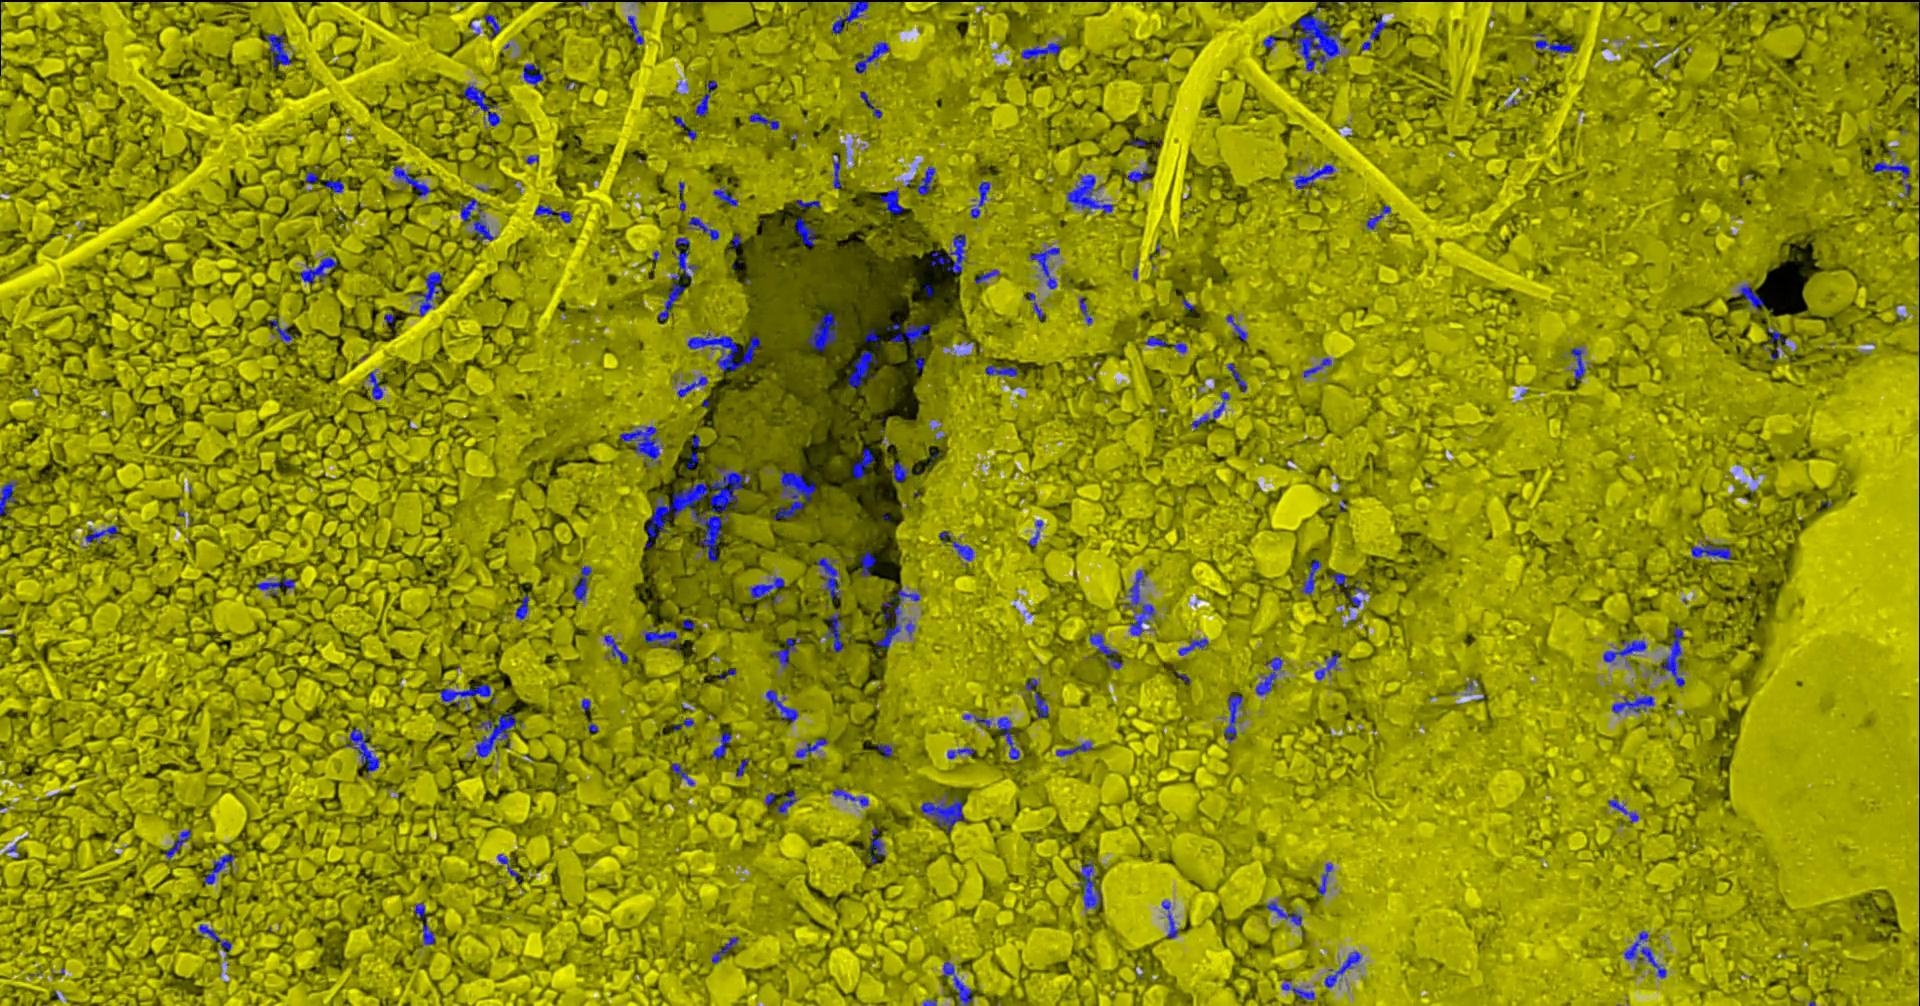ant: (877, 588, 921, 652), (775, 470, 817, 520), (1625, 930, 1669, 977), (477, 713, 523, 756), (1126, 569, 1156, 636), (1068, 173, 1115, 213), (621, 426, 663, 467), (922, 796, 969, 832), (460, 197, 497, 240), (345, 727, 381, 771), (463, 84, 502, 124), (1661, 626, 1686, 686), (943, 960, 975, 1005), (932, 232, 968, 272), (1192, 391, 1230, 427), (1031, 245, 1062, 288), (1326, 951, 1363, 987), (808, 311, 841, 351), (417, 271, 444, 316), (940, 530, 975, 565), (833, 0, 871, 33), (659, 274, 686, 320), (1090, 633, 1123, 669), (394, 165, 433, 196), (441, 683, 491, 706), (856, 41, 891, 72), (767, 688, 800, 721), (850, 351, 879, 387), (1079, 862, 1102, 909), (201, 923, 232, 956), (818, 556, 842, 600), (301, 257, 338, 285), (674, 238, 698, 279), (1257, 655, 1283, 695), (1297, 164, 1337, 188), (772, 636, 803, 668), (204, 854, 236, 884), (888, 323, 932, 344), (1604, 640, 1648, 662), (265, 33, 293, 67), (999, 716, 1021, 760), (1225, 695, 1244, 743), (1267, 901, 1303, 926), (415, 902, 436, 944), (536, 199, 573, 222), (1363, 17, 1388, 50), (971, 180, 993, 218), (1613, 694, 1656, 713), (696, 80, 719, 116), (750, 575, 786, 598), (1535, 32, 1575, 52), (1691, 540, 1733, 559), (645, 630, 682, 652), (1316, 649, 1341, 680), (825, 612, 844, 652), (712, 936, 740, 963), (166, 829, 192, 859), (1023, 42, 1062, 61), (853, 447, 876, 479), (258, 577, 296, 596), (1609, 799, 1641, 822), (1302, 559, 1322, 594), (1740, 285, 1765, 312), (604, 634, 629, 663), (833, 788, 870, 807), (690, 216, 720, 239), (678, 375, 709, 398), (498, 854, 522, 882), (1874, 160, 1911, 178), (797, 737, 829, 757), (881, 187, 905, 213), (1227, 312, 1250, 340), (270, 318, 298, 340), (1228, 362, 1248, 392), (575, 565, 593, 600), (1163, 901, 1180, 937), (796, 217, 817, 246), (712, 730, 733, 760), (1283, 981, 1316, 998), (1368, 205, 1392, 229), (777, 790, 801, 814), (1029, 291, 1048, 321), (861, 91, 883, 118), (1305, 357, 1333, 377), (1, 480, 18, 514), (86, 525, 118, 542), (1178, 638, 1210, 655), (1057, 741, 1093, 756), (672, 762, 696, 785), (1572, 345, 1587, 381), (870, 827, 885, 862), (918, 166, 937, 194), (750, 112, 780, 130), (714, 185, 739, 206), (1128, 163, 1153, 182), (1319, 862, 1335, 894), (629, 15, 645, 44), (485, 13, 502, 39), (861, 550, 877, 577), (524, 64, 543, 86), (1079, 296, 1095, 324), (1029, 520, 1044, 547), (964, 713, 994, 727), (688, 434, 701, 467), (370, 370, 383, 399), (891, 461, 910, 481), (985, 365, 1018, 376), (1769, 326, 1788, 345), (977, 269, 1001, 283), (1036, 692, 1049, 718), (949, 747, 977, 758), (833, 152, 842, 188), (517, 594, 530, 619), (1330, 572, 1349, 587), (674, 716, 695, 730), (877, 743, 894, 758), (719, 668, 737, 682), (737, 758, 750, 776), (326, 179, 345, 192), (866, 328, 883, 342), (797, 199, 822, 208), (1145, 337, 1170, 345), (1173, 340, 1189, 353), (1263, 36, 1277, 48), (306, 171, 319, 182)
